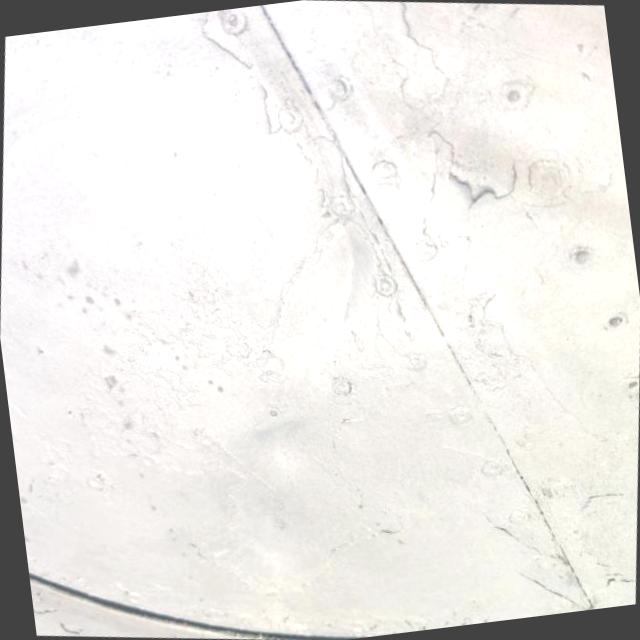dent: (277, 211, 410, 355)
